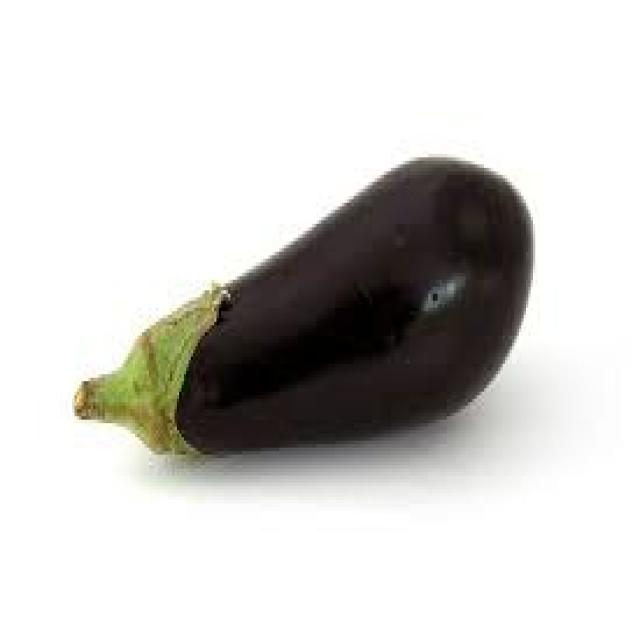eggplant: (74, 154, 533, 451)
